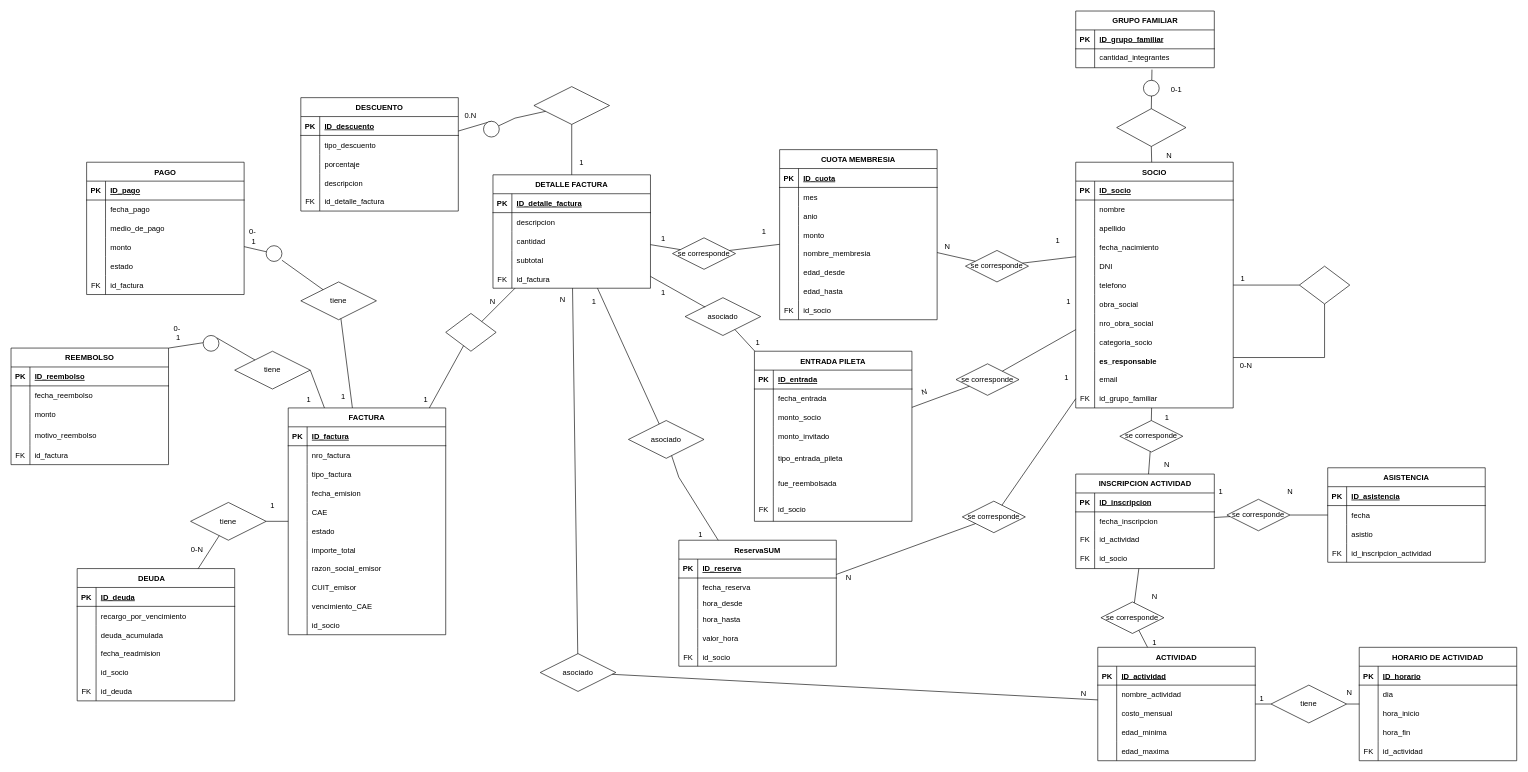
Some shapes in this 1528 by 772 pixel diagram are drawn without their labels. The shapes that lost their labels are listed below. From the top down, each one's centre as x and y in pixels, then its label:
At (x=571, y=105): "aplica".
At (x=1151, y=127): "Pertenece".
At (x=1324, y=285): "a cargo de".
At (x=470, y=332): "detalla".
